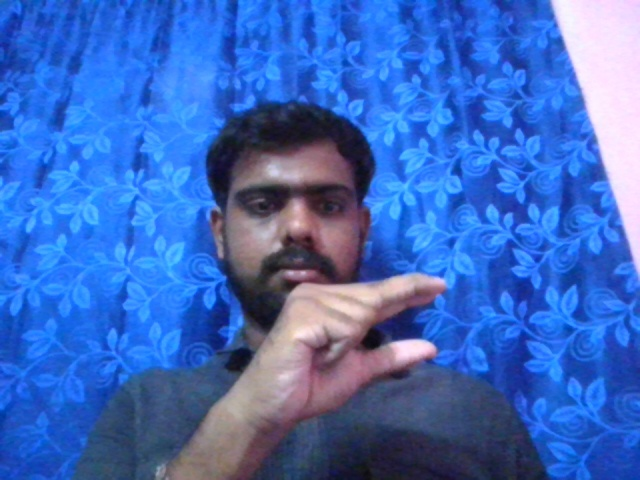No: (242, 267, 451, 425)
